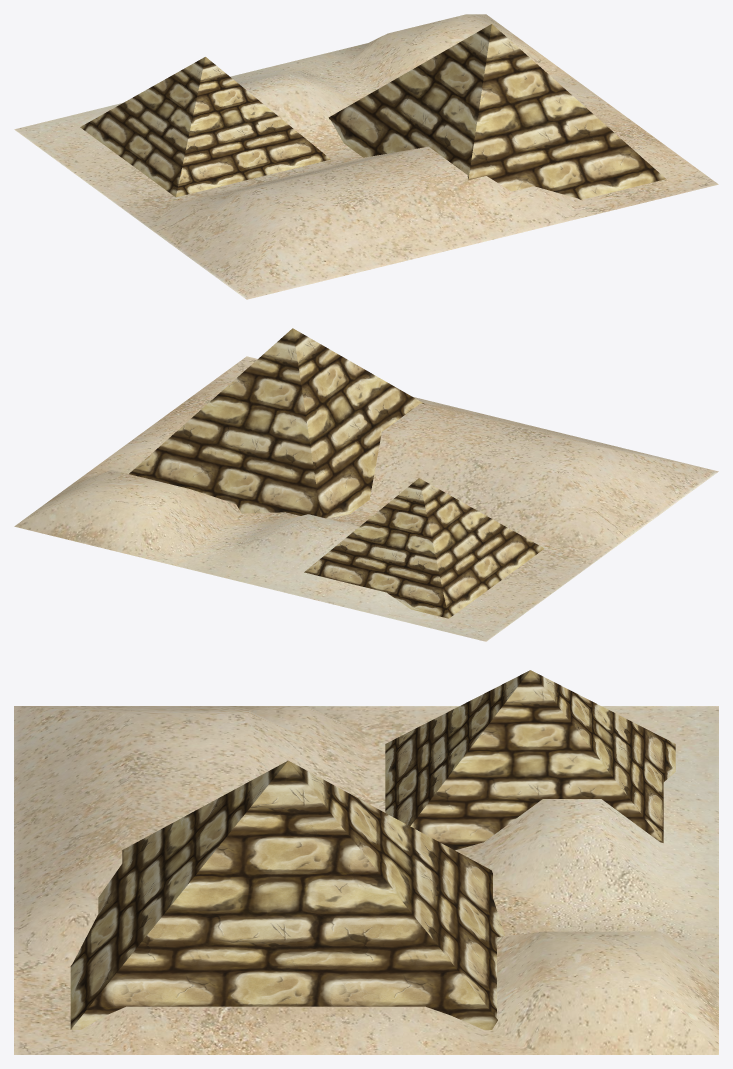
The model's file is desert.FBX.
The picture shows the model from 3 angles, top to bottom: view 1: azimuth 30°, elevation 25°; view 2: azimuth 150°, elevation 25°; view 3: azimuth 270°, elevation 25°; orthographic projection. The views are drawn at different scales.
Parts seen in each view (by area): view 1: Plane001, Pyramid001, Pyramid002; view 2: Plane001, Pyramid001, Pyramid002; view 3: Plane001, Pyramid001, Pyramid002.
Part boxes in pixels (x1,y1,x2,y2): Plane001: (14,14,718,299); Pyramid001: (329,24,665,199); Pyramid002: (80,57,330,197); Plane001: (14,356,718,641); Pyramid001: (129,328,424,518); Pyramid002: (304,478,544,618); Plane001: (14,706,718,1054); Pyramid001: (70,760,504,1029); Pyramid002: (385,670,675,850).
Size of the model in its own units: 1.88 by 0.4867 by 1.61.
2 materials, 2 textured.
